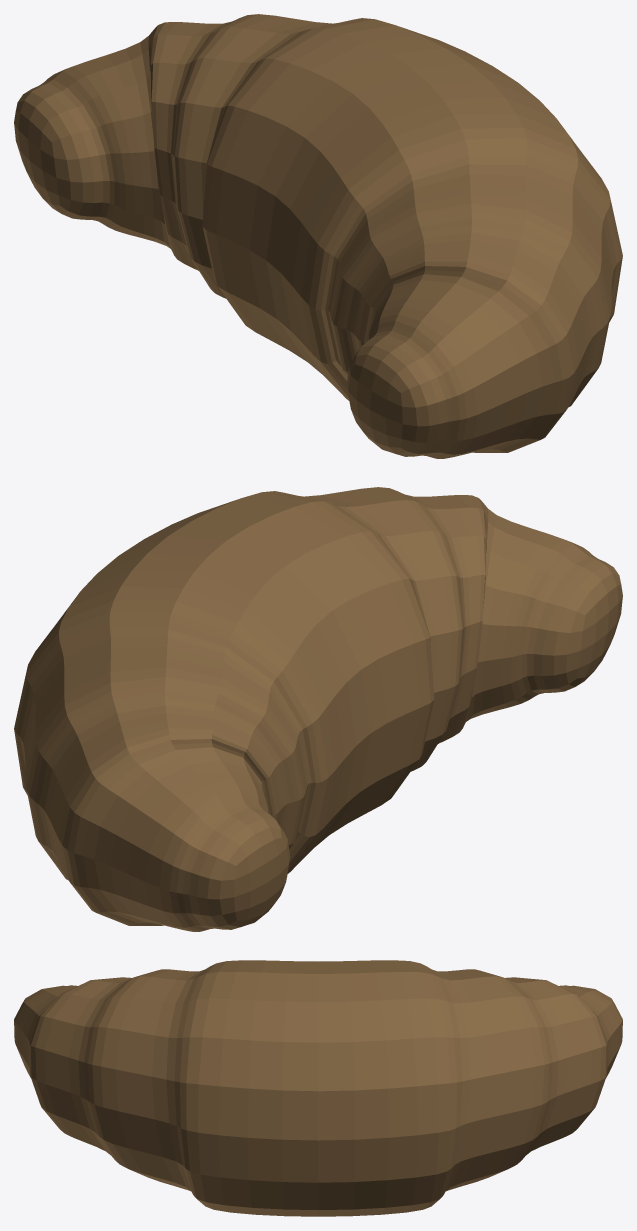
File: croissaint.fbx
3 views of the same model, one above another, from view 1: azimuth 30°, elevation 25°; view 2: azimuth 150°, elevation 25°; view 3: azimuth 270°, elevation 25° (orthographic). The views are drawn at different scales.
Parts seen in each view (by area): view 1: Cube; view 2: Cube; view 3: Cube.
Part boxes in pixels (box(x1,y1,x2,y2)): Cube: box(14, 14, 622, 458); Cube: box(14, 487, 622, 931); Cube: box(14, 960, 622, 1216).
Size of the model in its own units: 223 by 183 by 442.
